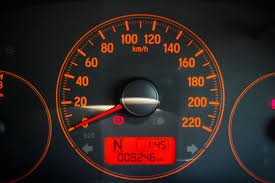Digital_Meter: (103, 135, 174, 166)
